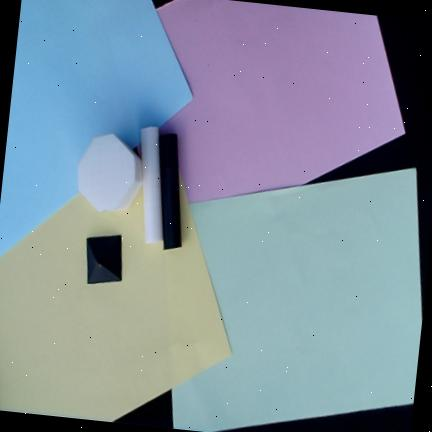Cilindro: (158, 134, 182, 250), (141, 126, 163, 244)
Piramide: (86, 235, 122, 285)
Prisma_hexagonal: (78, 133, 142, 212)
